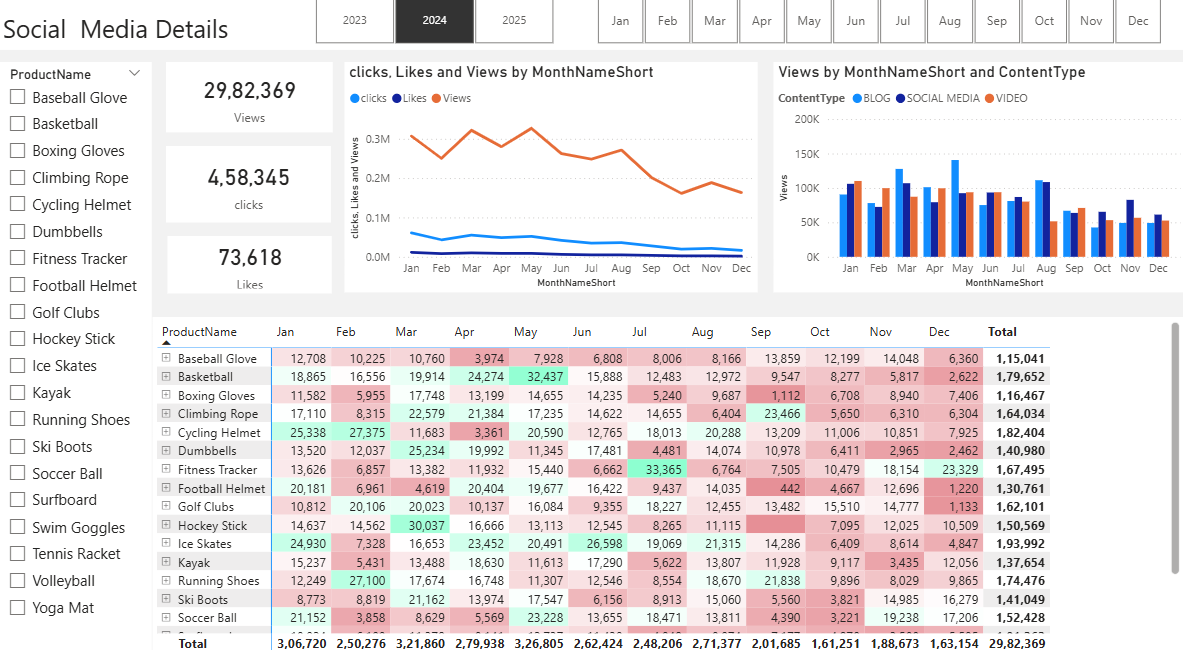

Layout of this report page (visuals, bound fields, positions):
{"tool":"powerbi","page":{"name":"Social Media Details","canvas":[1280,720],"ordinal":2},"visuals":[{"type":"textbox","box":[0,0,1279.2,64.8],"z":0},{"type":"slicer","fields":{"Values":["dim_products.ProductName"]},"box":[0,77.5,166.3,642.5],"z":1000},{"type":"card","fields":{"Values":["_Calculations.Views"]},"box":[181.4,77.7,179.7,76.1],"z":2000},{"type":"card","fields":{"Values":["_Calculations.clicks"]},"box":[181.4,168.4,178.1,82.6],"z":3000},{"type":"card","fields":{"Values":["_Calculations.Likes"]},"box":[183.2,264.9,177.3,61.7],"z":4000},{"type":"slicer","fields":{"Values":["Calendar.Year"]},"box":[317.5,0,306.1,64.3],"z":5000},{"type":"slicer","fields":{"Values":["Calendar.MonthNameShort"]},"box":[621.7,0,657.6,64.3],"z":6000},{"type":"lineChart","fields":{"Category":["Calendar.MonthNameShort"],"Y":["_Calculations.clicks","_Calculations.Likes","_Calculations.Views"]},"box":[374.4,77.7,446.1,249],"z":7000},{"type":"clusteredColumnChart","fields":{"Category":["Calendar.MonthNameShort"],"Y":["_Calculations.Views"],"Series":["fact_engagement_data.ContentType"]},"box":[836.5,77.7,444.2,249],"z":8000},{"type":"pivotTable","fields":{"Rows":["dim_products.ProductName","fact_engagement_data.ContentType"],"Columns":["Calendar.MonthNameShort"],"Values":["_Calculations.Views"]},"box":[167.3,352.5,1113.4,366.5],"z":9000}]}

Visuals, with their boxes in screenshot pixels (x1, y1, x2, y2), scaled from the page's 1280x720 canvas onto the 1183x650 screenshot:
textbox: <box>0,0,1182,58</box>
slicer - dim_products.ProductName: <box>0,70,154,649</box>
card - _Calculations.Views: <box>168,70,334,139</box>
card - _Calculations.clicks: <box>168,152,332,227</box>
card - _Calculations.Likes: <box>169,239,333,295</box>
slicer - Calendar.Year: <box>293,0,576,58</box>
slicer - Calendar.MonthNameShort: <box>575,0,1182,58</box>
lineChart - Calendar.MonthNameShort x _Calculations.clicks: <box>346,70,758,295</box>
clusteredColumnChart - Calendar.MonthNameShort x _Calculations.Views: <box>773,70,1182,295</box>
pivotTable - dim_products.ProductName x fact_engagement_data.ContentType: <box>155,318,1182,649</box>
